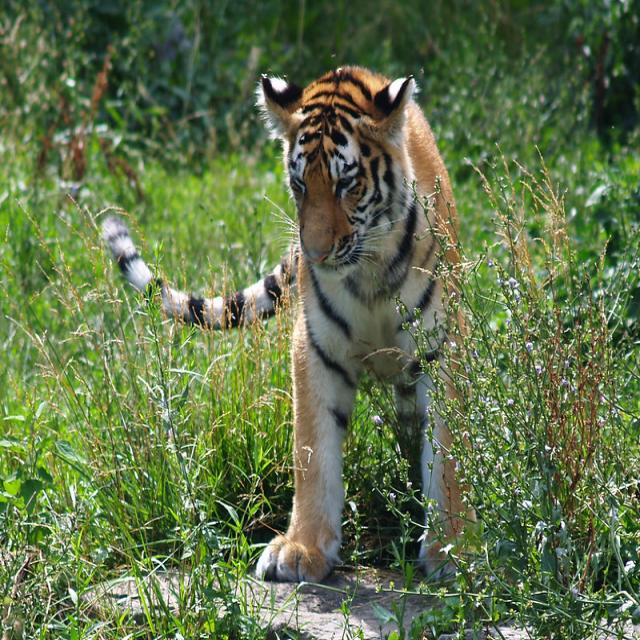Tiger: (232, 60, 470, 582)
